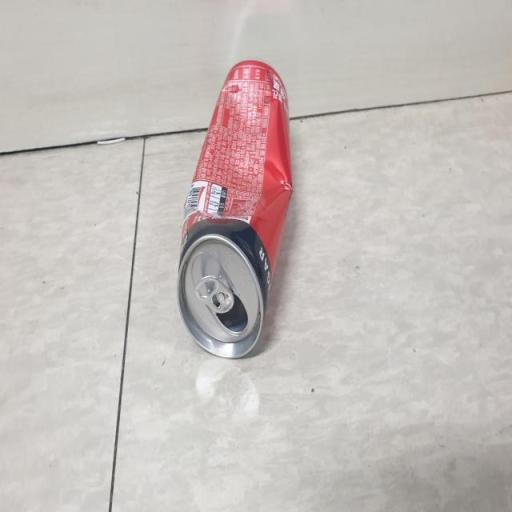metal: (162, 40, 320, 374)
